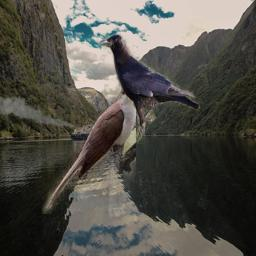Crow: (98, 33, 200, 144)
Cuckoo: (42, 84, 136, 214)
